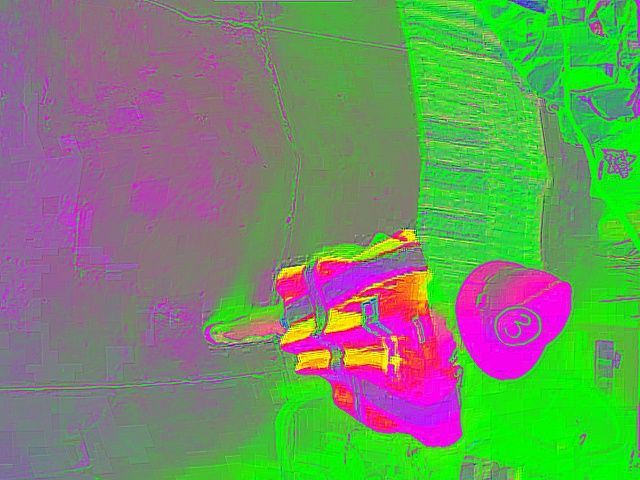three: (495, 306, 540, 345)
